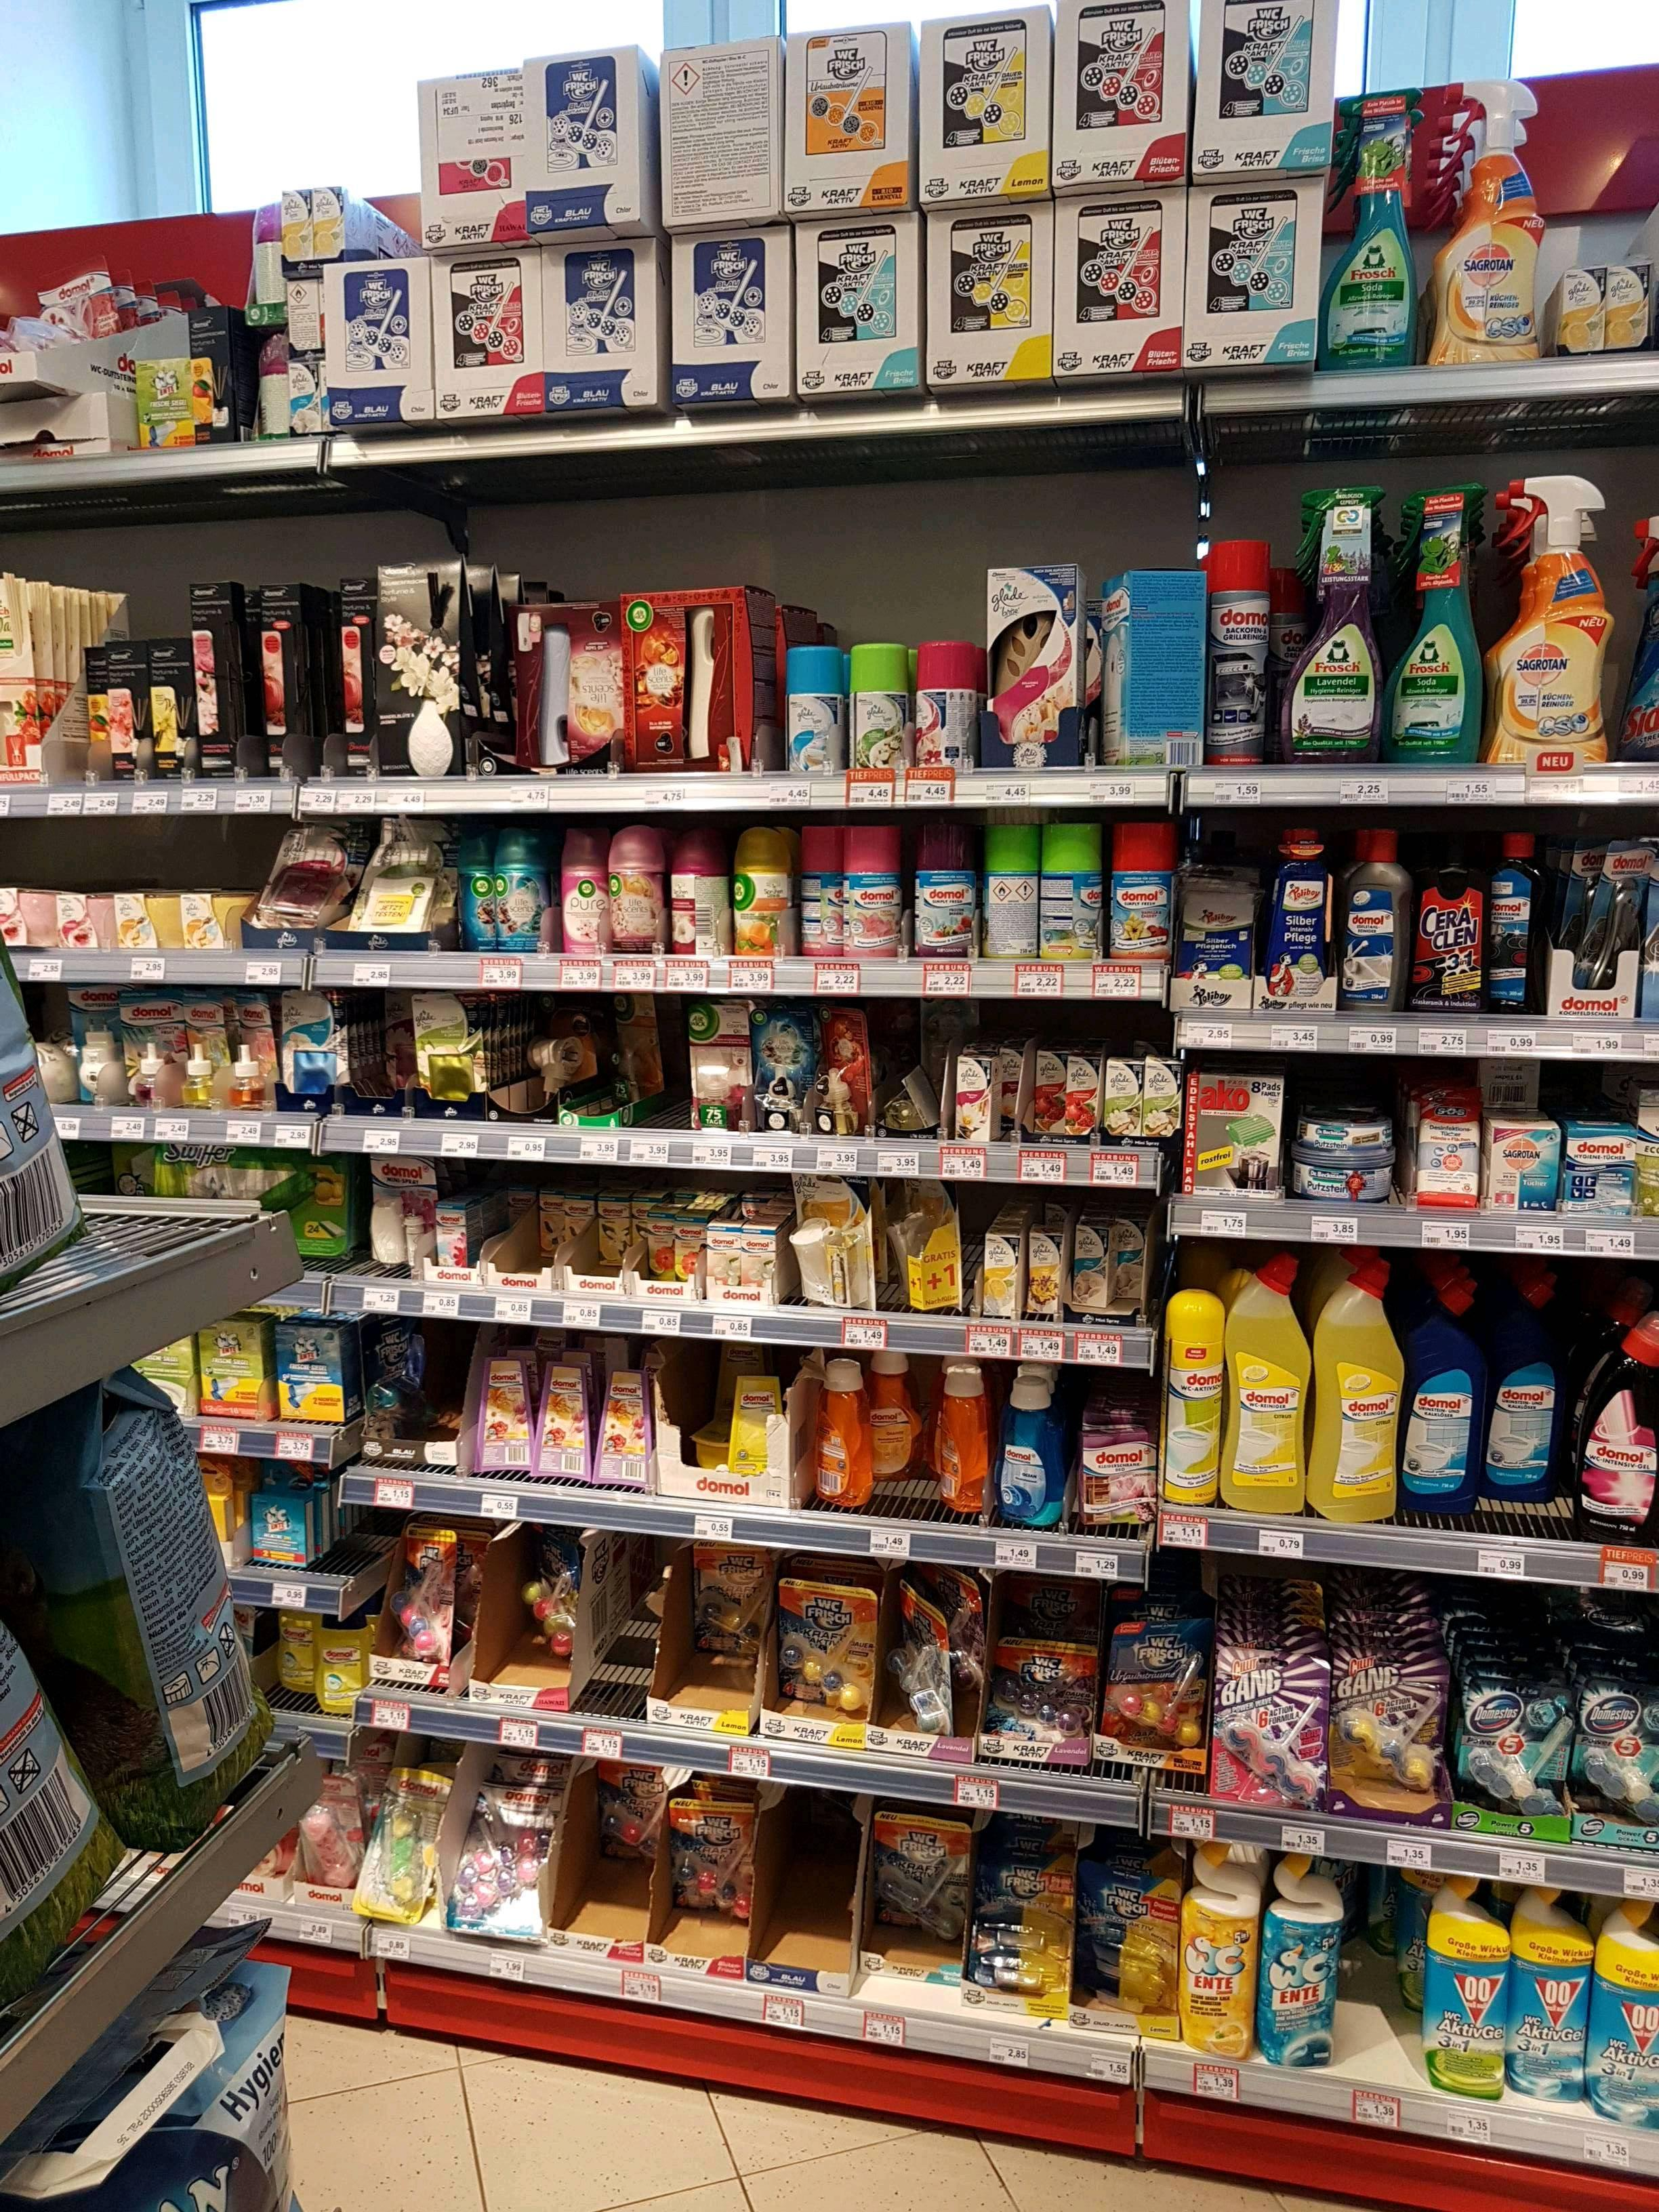empty: (1338, 1893, 1422, 2094), (563, 1808, 641, 1958), (777, 1792, 842, 1949), (870, 1026, 946, 1148), (885, 1366, 939, 1526), (629, 1021, 688, 1130), (411, 1338, 471, 1447)
